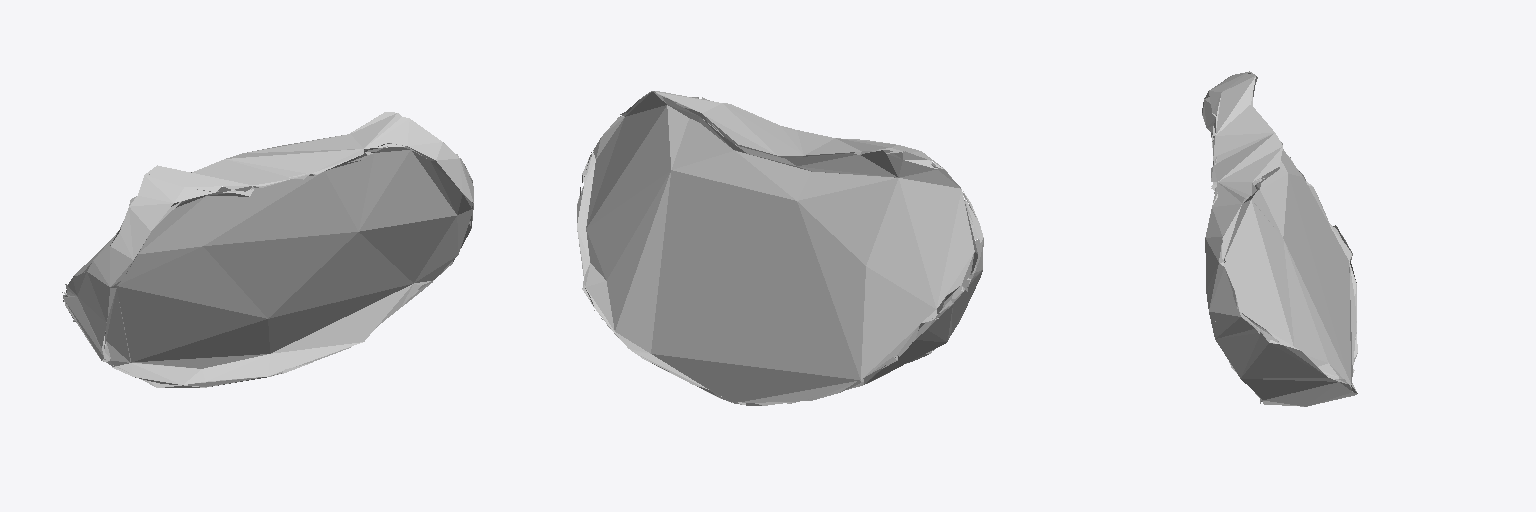
The model's file is intervertebral disk of sixth cervical vertebra.obj.
The picture shows the model from 3 angles: view 1: azimuth 30°, elevation 25°; view 2: azimuth 150°, elevation 25°; view 3: azimuth 270°, elevation 25°; orthographic projection.
Visible parts, largest first — view 1: grp1; view 2: grp1; view 3: grp1.
Part boxes in pixels (left/top/right/bottom): grp1: left=62, top=112, right=473, bottom=387; grp1: left=577, top=91, right=983, bottom=405; grp1: left=1202, top=71, right=1357, bottom=406.
Size of the model in its own units: 28.21 by 17.18 by 9.65.